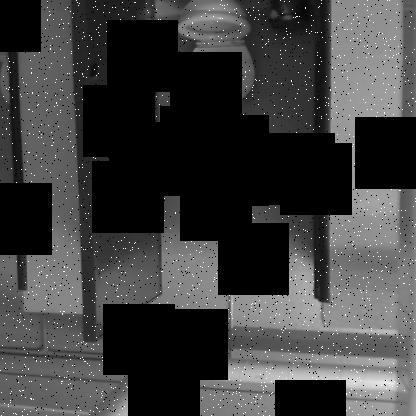Porte: (68, 1, 333, 344)
